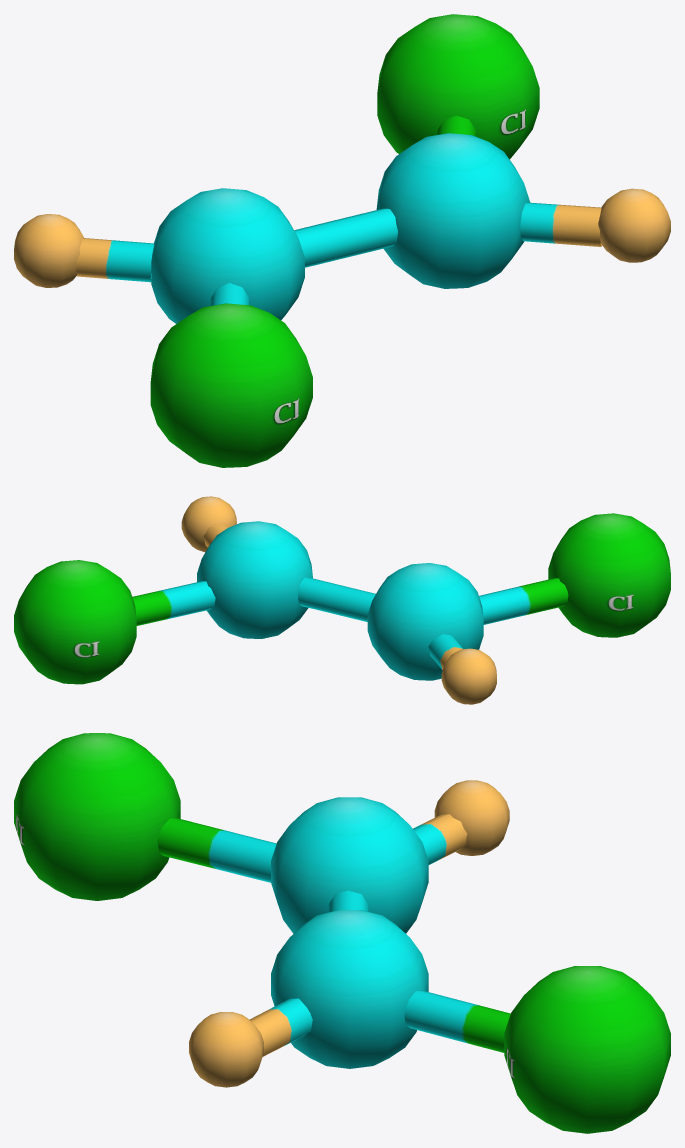
The model's file is trans12DichloroEthylene.dae.
The picture shows the model from 3 angles, top to bottom: view 1: azimuth 30°, elevation 25°; view 2: azimuth 150°, elevation 25°; view 3: azimuth 270°, elevation 25°; orthographic projection. The views are drawn at different scales.
Visible parts, largest first — view 1: polySurface13; view 2: polySurface13; view 3: polySurface13.
Part boxes in pixels (left/top/right/bottom): polySurface13: left=14, top=14, right=670, bottom=467; polySurface13: left=14, top=496, right=670, bottom=704; polySurface13: left=14, top=733, right=670, bottom=1133.
Size of the model in its own units: 6.65 by 1.58 by 6.1.
1 material, 1 textured.
